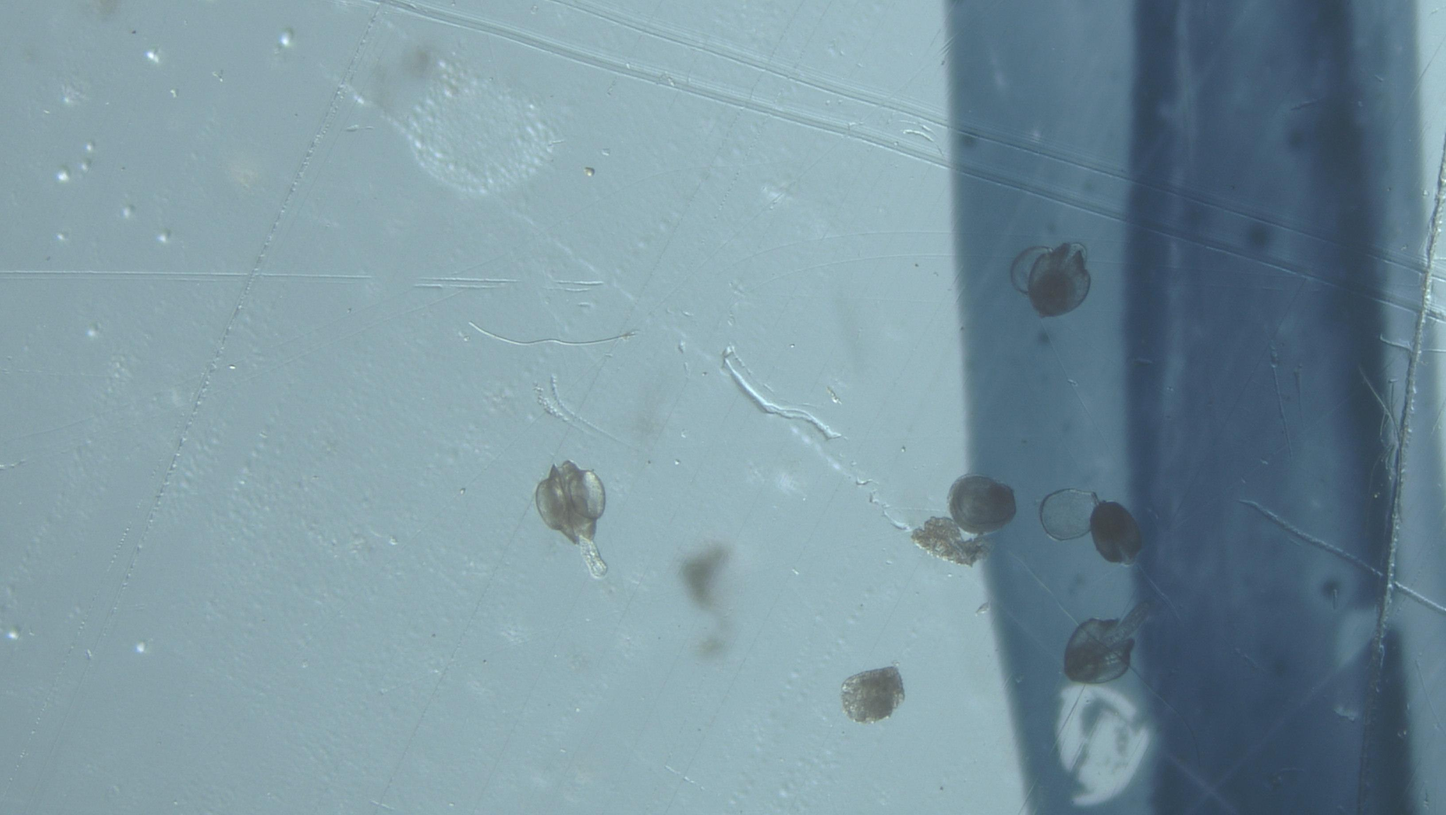dead: (1040, 489, 1101, 541)
live: (534, 461, 606, 577), (1027, 243, 1091, 317), (1064, 620, 1134, 685), (948, 474, 1017, 536), (1090, 502, 1142, 564)
